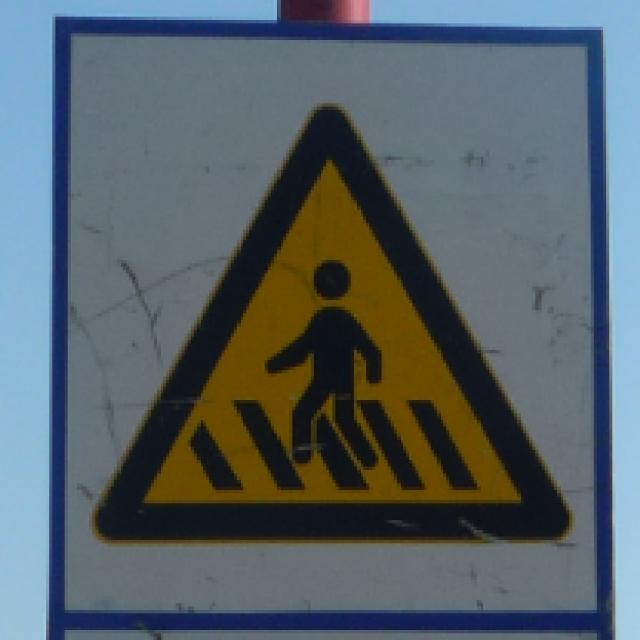Crossing: (95, 105, 578, 556)
